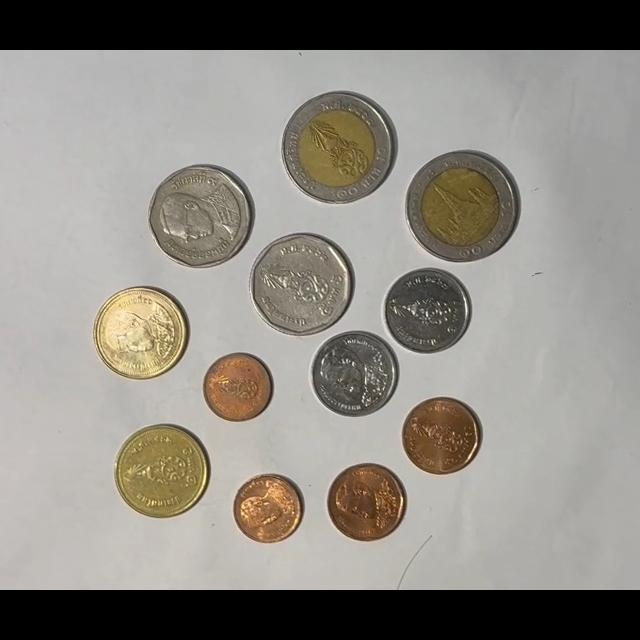1-baht: (311, 331, 399, 418), (383, 268, 472, 354)
10-baht: (281, 90, 396, 205), (406, 150, 519, 262)
2-baht: (114, 424, 210, 519), (93, 286, 187, 381)
25-satang: (233, 474, 304, 544), (203, 353, 272, 421)
5-baht: (148, 165, 253, 269), (249, 233, 353, 337)
50-satang: (401, 397, 482, 475), (327, 464, 407, 542)
